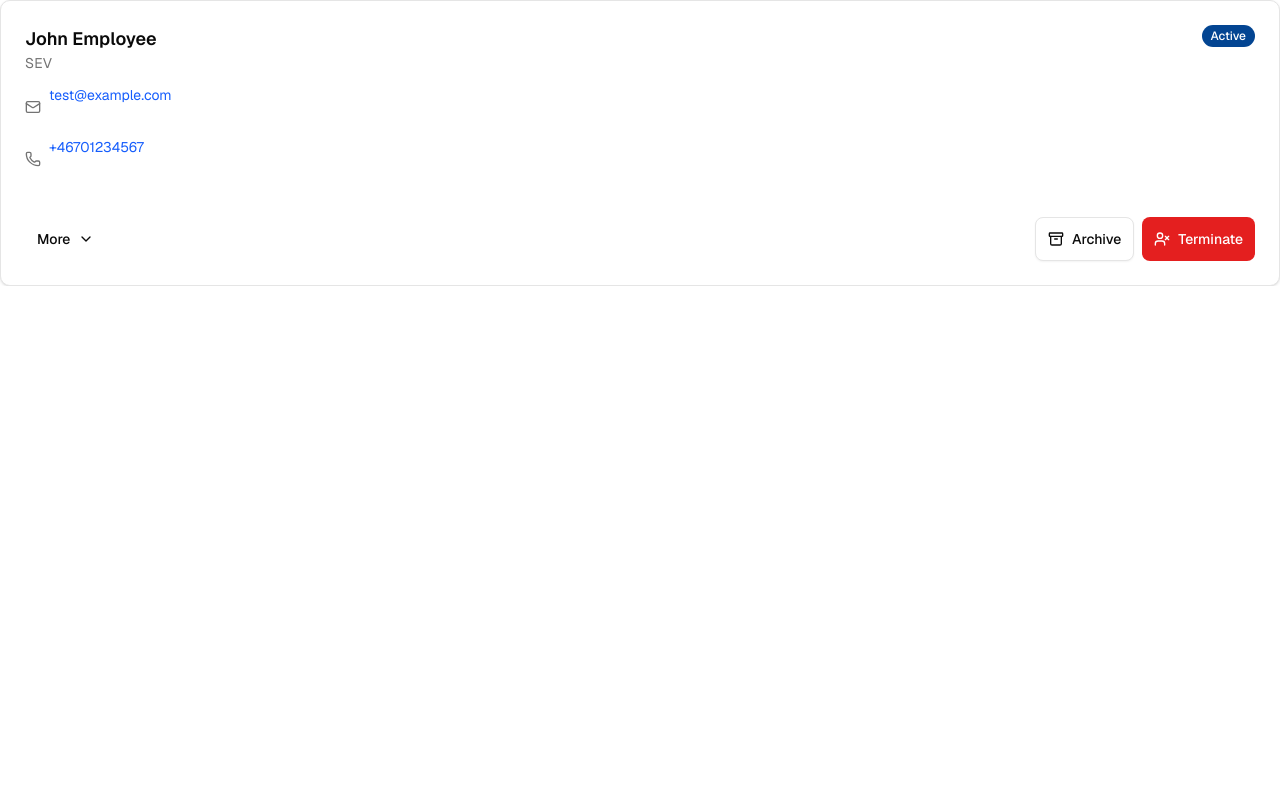
Scenario: EmployeeCard - Field Visibility and Permissions › AC2: Field Visibility and Permissions Tests › should format field values correctly (dates, booleans, text)
Click the button with aria-label "Expand details".
click(66, 239)  # box [25,217,106,261]
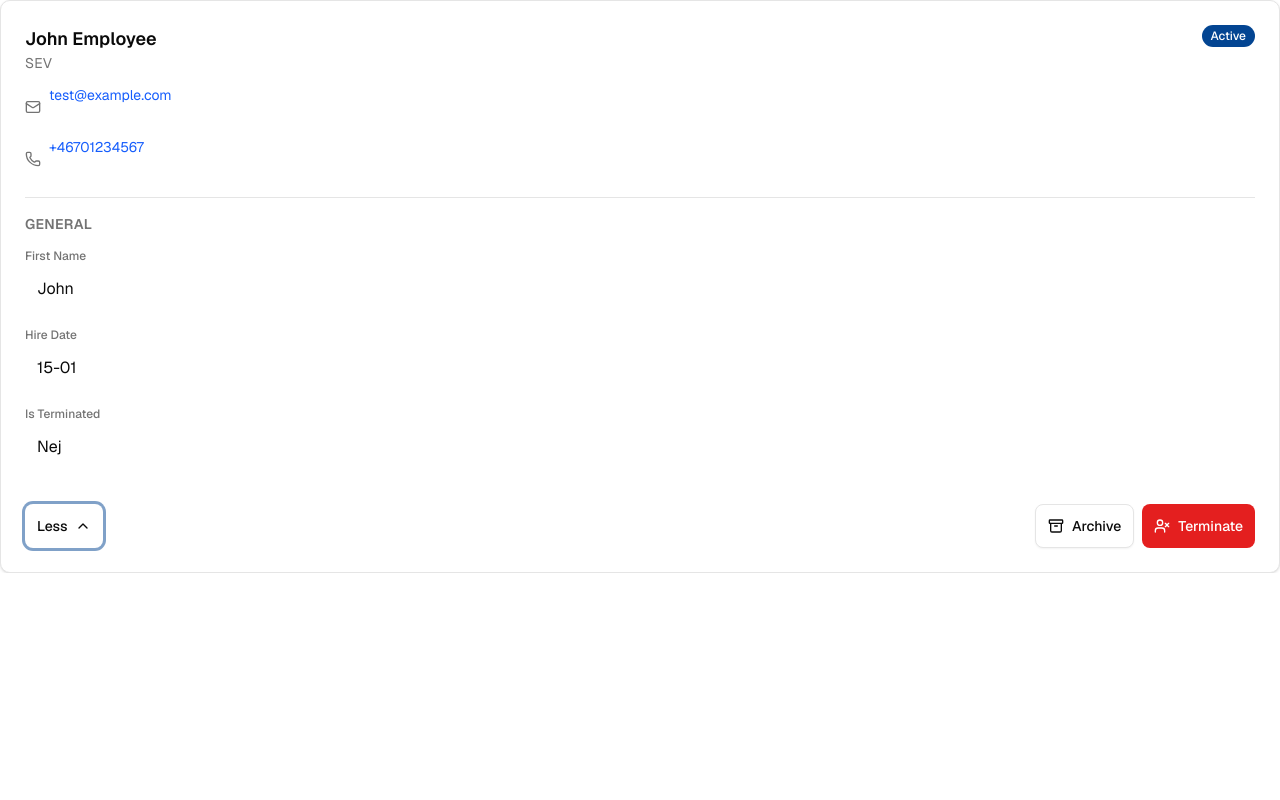
Check: the text "First Name" is shown, box [25,248,86,264]
Check: the text "Hire Date" is shown, box [25,327,77,343]
Check: the text "Is Terminated" is shown, box [25,406,100,422]
